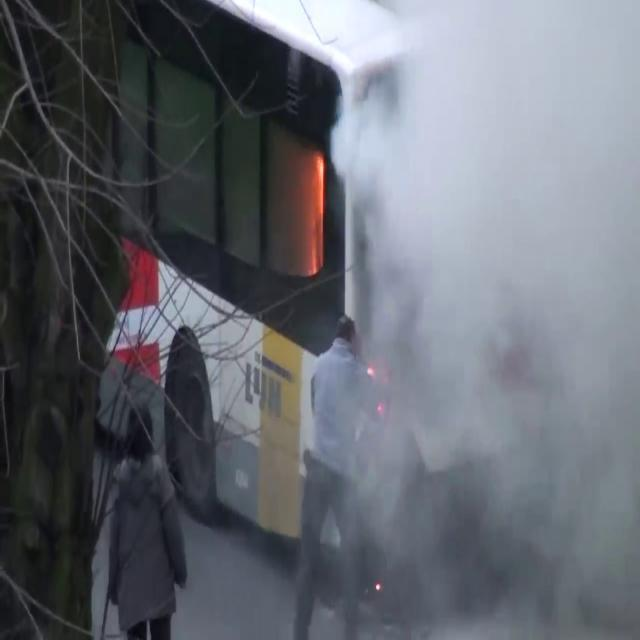Smoke: (325, 0, 640, 629)
